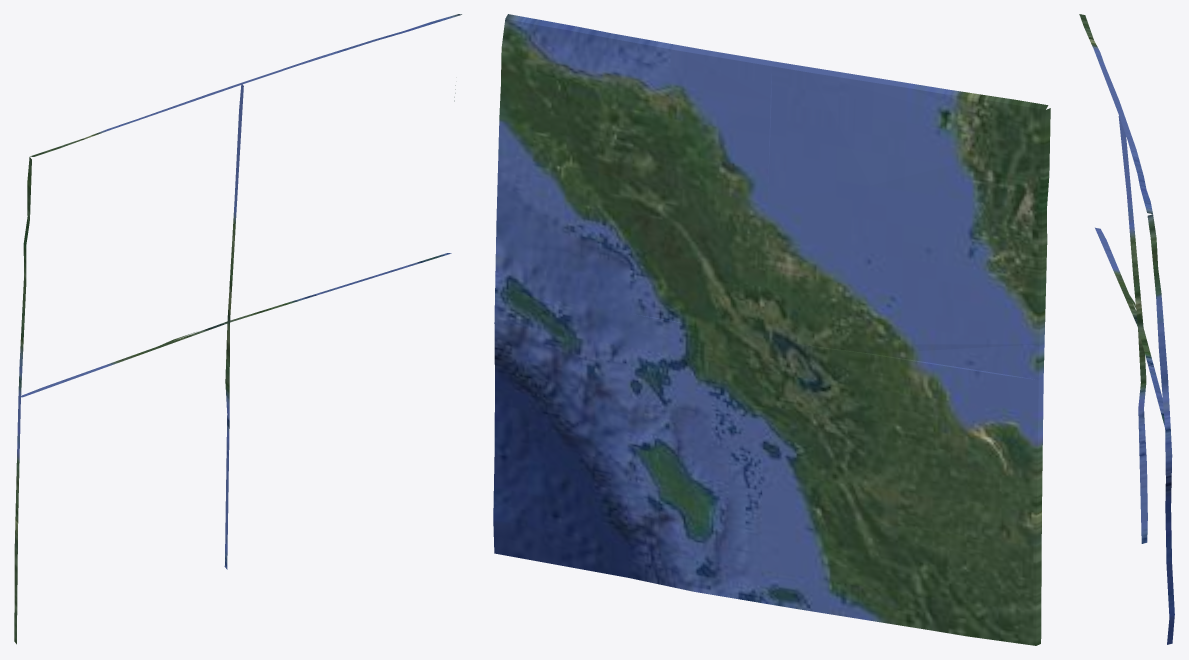
3 renders of one model, left to right at view 1: azimuth 30°, elevation 25°; view 2: azimuth 150°, elevation 25°; view 3: azimuth 270°, elevation 25°, orthographic. The views are drawn at different scales.
Bounding box in the file's own units: 628830 × 628441 × 125834.
Materials: 1 (1 with a texture image).
